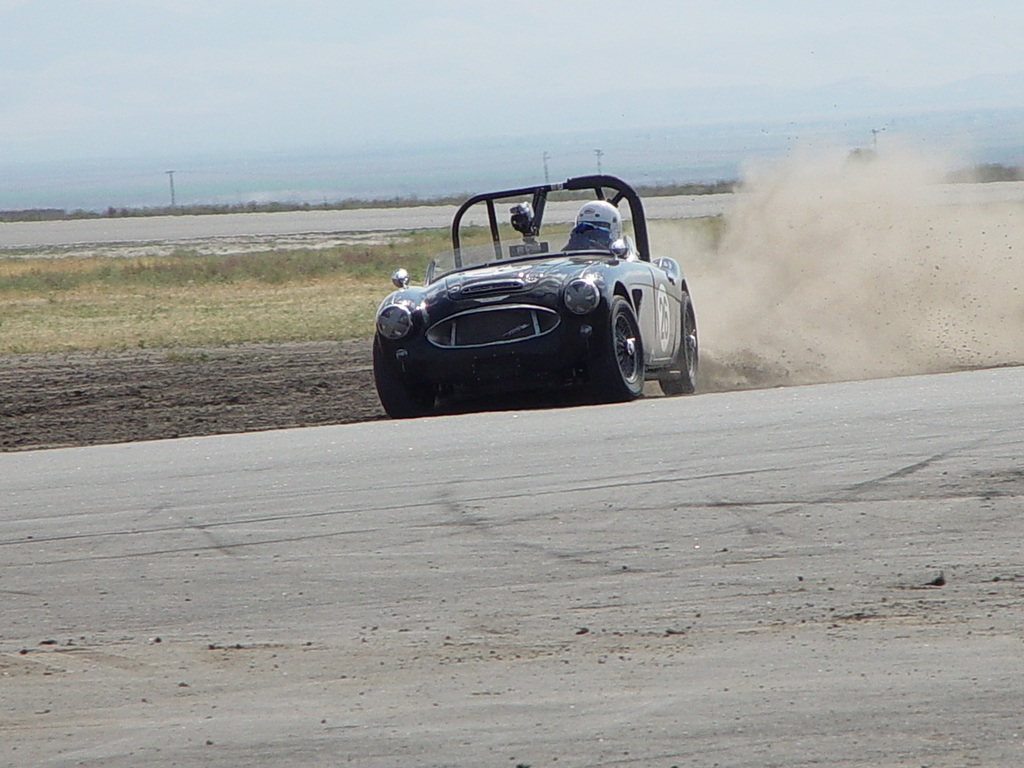Car: (371, 172, 699, 418)
